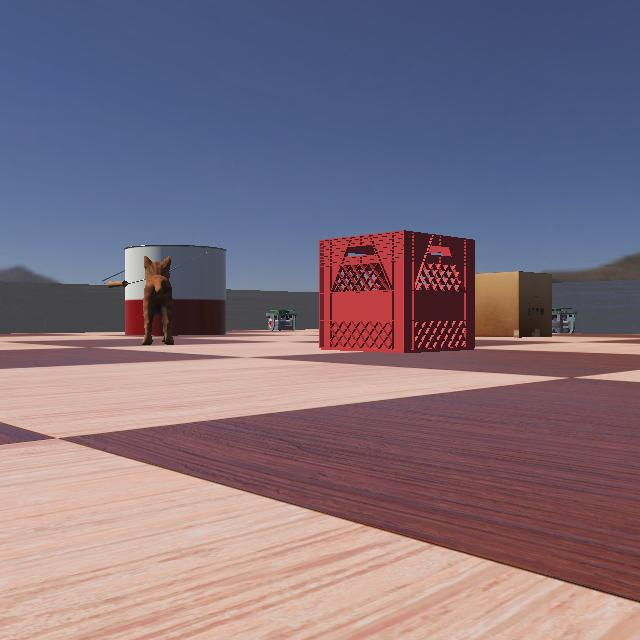cardboard-box: (454, 270, 566, 338), (454, 270, 566, 338)
cat: (105, 241, 191, 347), (105, 241, 191, 347), (105, 241, 191, 347), (105, 241, 191, 347)
paint-bucket: (76, 242, 232, 336), (76, 242, 232, 336), (76, 242, 232, 336)
plastic-crate: (318, 230, 492, 352)
